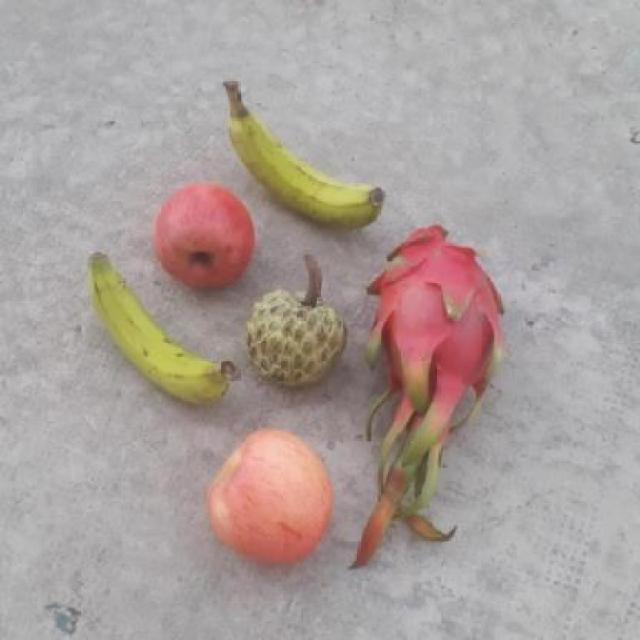apple: (211, 420, 343, 563), (142, 177, 264, 288)
banana: (83, 250, 231, 408), (232, 101, 383, 238)
dragon fruit: (363, 223, 505, 414)
sugar apple: (246, 285, 346, 396)
